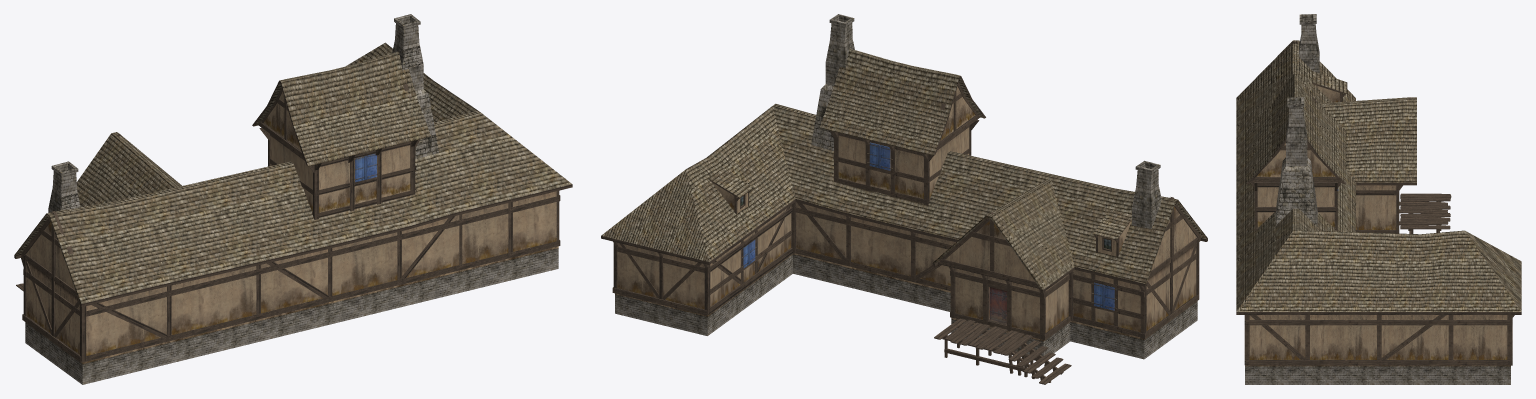
File: f1_house02_lod1.dae
3 views of the same model, side by side, from view 1: azimuth 30°, elevation 25°; view 2: azimuth 150°, elevation 25°; view 3: azimuth 270°, elevation 25° (orthographic). The views are drawn at different scales.
Parts seen in each view (by area): view 1: f1_house02_lod1_Layer1; view 2: f1_house02_lod1_Layer1; view 3: f1_house02_lod1_Layer1.
Boxes of the visible parts, <box> form: f1_house02_lod1_Layer1: <box>14,14,572,384</box>; f1_house02_lod1_Layer1: <box>601,14,1207,384</box>; f1_house02_lod1_Layer1: <box>1236,14,1521,384</box>.
Bounding box in the file's own units: 24.8 × 12.53 × 13.96.
